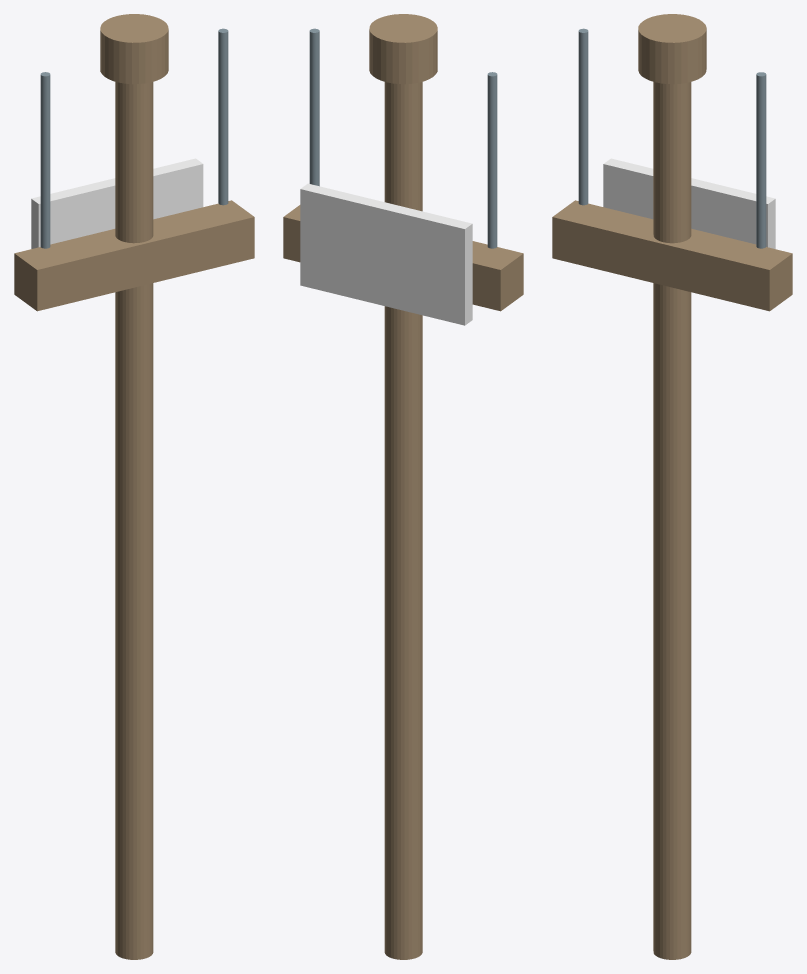
Rendered from bien_mo_cua.glb.
3 renders of one model, left to right at view 1: azimuth 30°, elevation 25°; view 2: azimuth 150°, elevation 25°; view 3: azimuth 330°, elevation 25°, orthographic.
Visible parts, largest first — view 1: bien_mo_cua_body, bien_mo_cua_state; view 2: bien_mo_cua_body, bien_mo_cua_state; view 3: bien_mo_cua_body, bien_mo_cua_state.
Boxes of the visible parts, x1,y1,x2,y2 form: bien_mo_cua_body: [14, 14, 254, 959]; bien_mo_cua_state: [31, 158, 203, 248]; bien_mo_cua_body: [283, 14, 523, 959]; bien_mo_cua_state: [300, 183, 472, 325]; bien_mo_cua_body: [552, 14, 792, 959]; bien_mo_cua_state: [603, 158, 775, 248].
Bounding box in the file's own units: 0.6604 × 2.68 × 0.1999.
